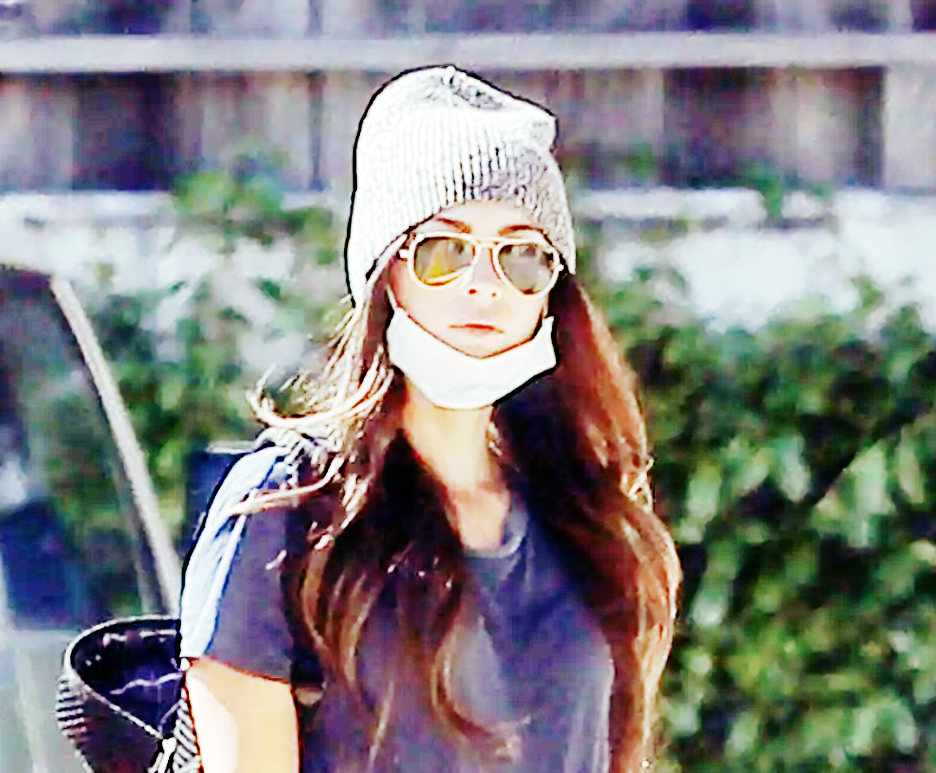mask_weared_incorrect: (348, 70, 574, 416)
